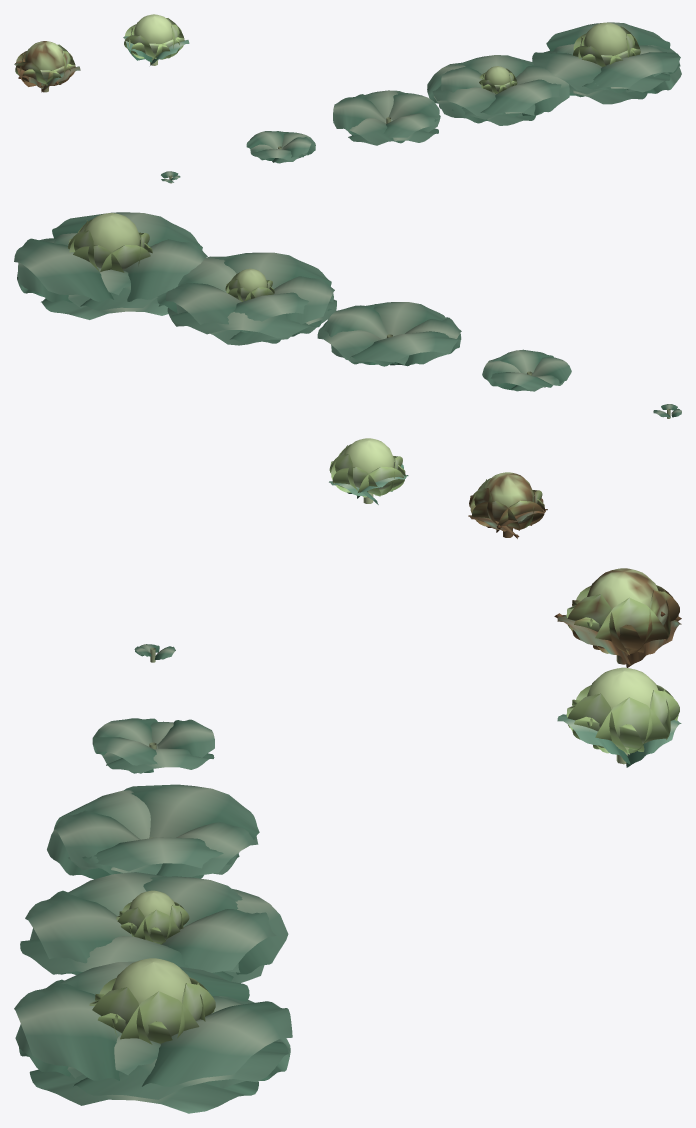
File: fieldworks_cabbage.glb
3 views of the same model, one above another, from view 1: azimuth 30°, elevation 25°; view 2: azimuth 150°, elevation 25°; view 3: azimuth 270°, elevation 25° (orthographic). The views are drawn at different scales.
Visible parts, largest first — view 1: cabbage_stage5_ready, cabbage_stage4_heading, cabbage_stage3_leafy, cabbage_item_dirty, cabbage_item_washed, cabbage_stage2_young; view 2: cabbage_stage5_ready, cabbage_stage4_heading, cabbage_stage3_leafy, cabbage_item_dirty, cabbage_item_washed, cabbage_stage2_young; view 3: cabbage_stage5_ready, cabbage_stage4_heading, cabbage_stage3_leafy, cabbage_item_dirty, cabbage_item_washed, cabbage_stage2_young.
Boxes of the visible parts, left/top/right/bottom form: cabbage_stage5_ready: left=532, top=22, right=681, bottom=104; cabbage_stage4_heading: left=427, top=55, right=569, bottom=125; cabbage_stage3_leafy: left=333, top=90, right=440, bottom=145; cabbage_item_dirty: left=14, top=41, right=80, bottom=92; cabbage_item_washed: left=123, top=14, right=189, bottom=65; cabbage_stage2_young: left=246, top=131, right=315, bottom=163; cabbage_stage5_ready: left=14, top=212, right=207, bottom=319; cabbage_stage4_heading: left=157, top=252, right=336, bottom=345; cabbage_stage3_leafy: left=317, top=302, right=461, bottom=366; cabbage_item_dirty: left=468, top=472, right=547, bottom=538; cabbage_item_washed: left=329, top=438, right=408, bottom=504; cabbage_stage2_young: left=482, top=349, right=571, bottom=391; cabbage_stage5_ready: left=14, top=958, right=292, bottom=1113; cabbage_stage4_heading: left=20, top=872, right=288, bottom=983; cabbage_stage3_leafy: left=47, top=784, right=259, bottom=879; cabbage_item_dirty: left=554, top=568, right=681, bottom=667; cabbage_item_washed: left=557, top=667, right=681, bottom=767; cabbage_stage2_young: left=92, top=718, right=214, bottom=773.
Size of the model in its own units: 2.43 by 0.2421 by 1.42.
